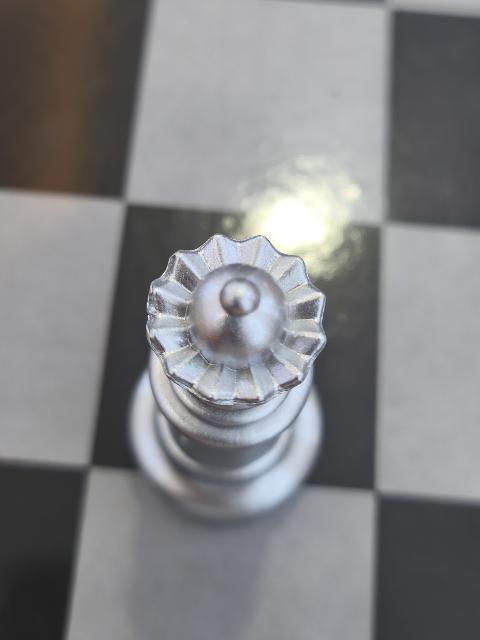white_queen: (126, 235, 331, 525)
